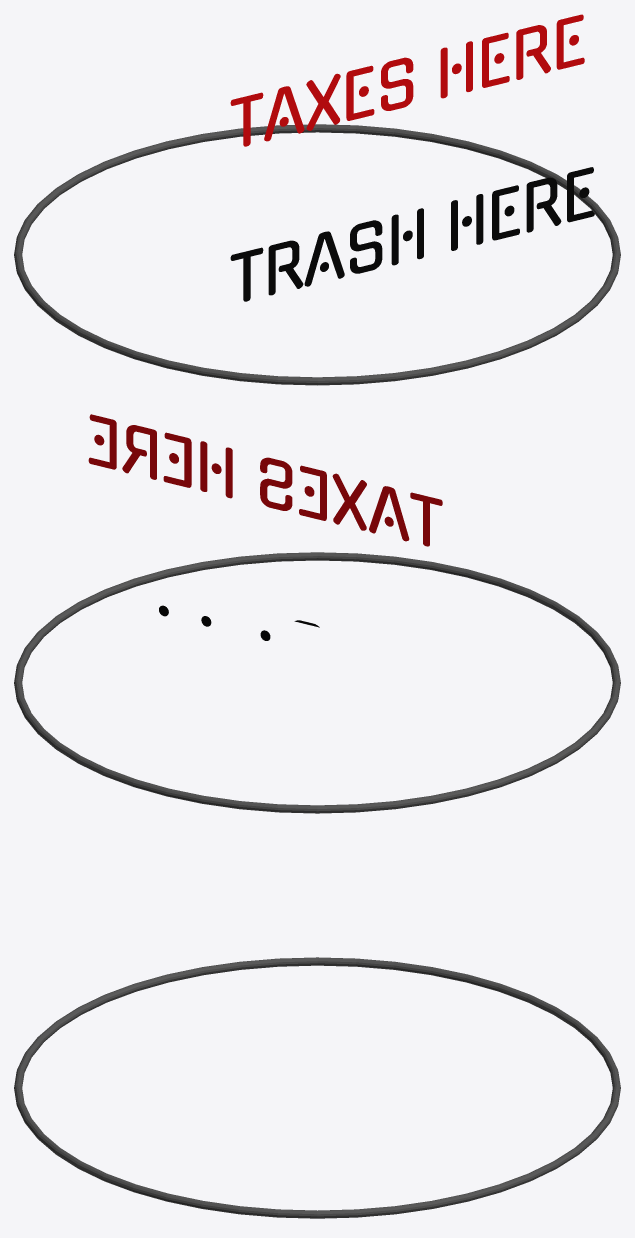
File: Extras.fbx
3 views of the same model, one above another, from view 1: azimuth 30°, elevation 25°; view 2: azimuth 150°, elevation 25°; view 3: azimuth 270°, elevation 25° (orthographic).
Visible parts, largest first — view 1: Torus, Text, Text.001; view 2: Torus, Text.001; view 3: Torus.
Part boxes in pixels (box(x1,y1,x2,y2)): Torus: box(14, 124, 620, 385); Text: box(230, 167, 594, 301); Text.001: box(230, 14, 584, 146); Torus: box(14, 552, 620, 813); Text.001: box(88, 414, 442, 546); Torus: box(14, 957, 620, 1218).
Size of the model in its own units: 738 by 276 by 738.
